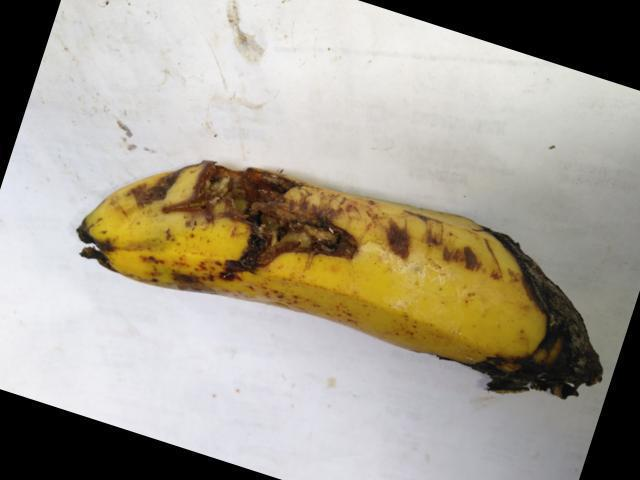rotten: (59, 115, 399, 290), (451, 190, 628, 448)
